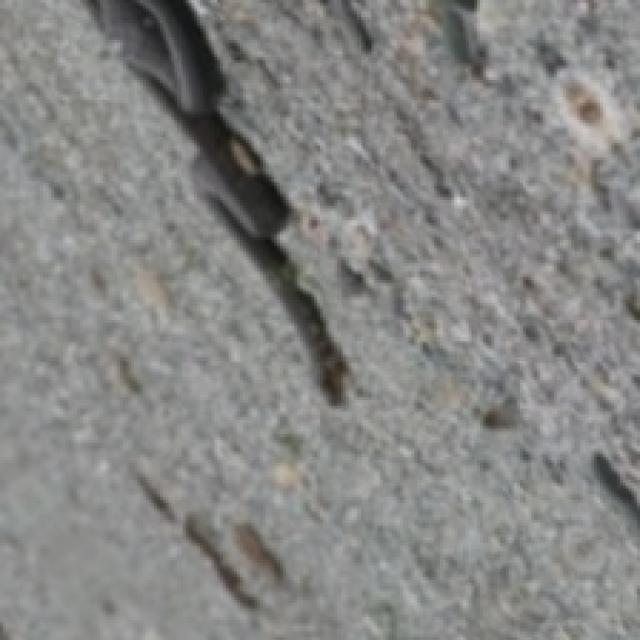king cobra: (89, 0, 349, 406)
